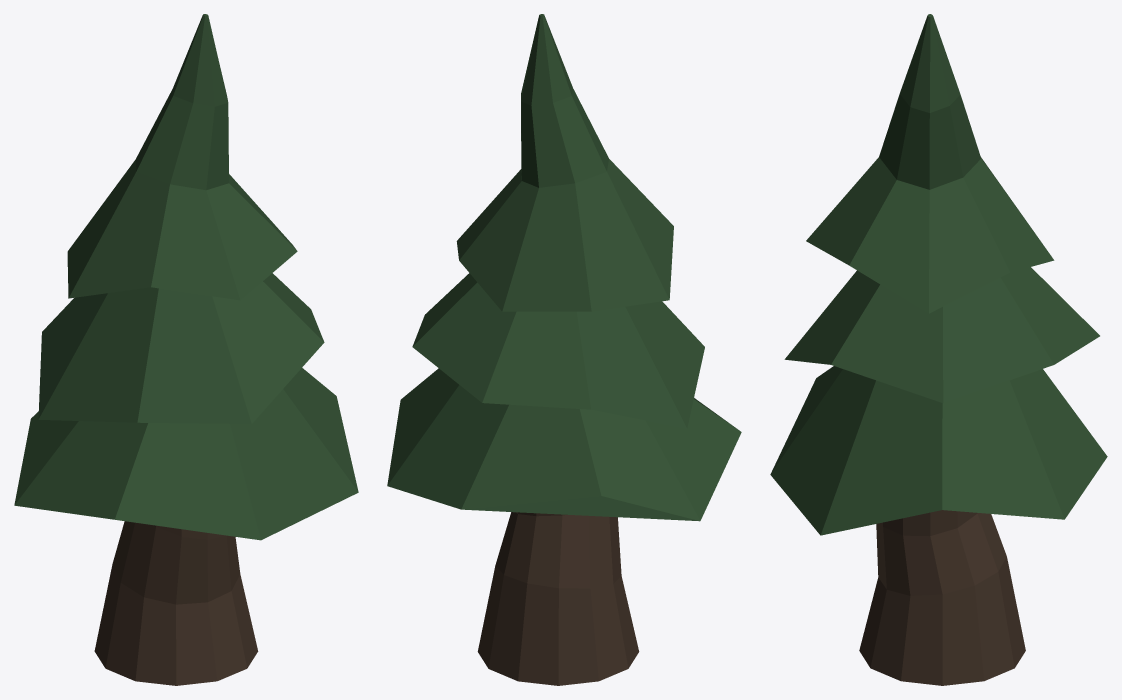
File: Tree.fbx
3 renders of one model, left to right at view 1: azimuth 30°, elevation 25°; view 2: azimuth 150°, elevation 25°; view 3: azimuth 270°, elevation 25°, orthographic. The views are drawn at different scales.
Parts seen in each view (by area): view 1: Tree; view 2: Tree; view 3: Tree.
Boxes of the visible parts, left/top/right/bottom form: Tree: left=14, top=14, right=358, bottom=685; Tree: left=387, top=14, right=741, bottom=685; Tree: left=770, top=14, right=1107, bottom=685.
Bounding box in the file's own units: 91.12 × 177 × 83.51.
